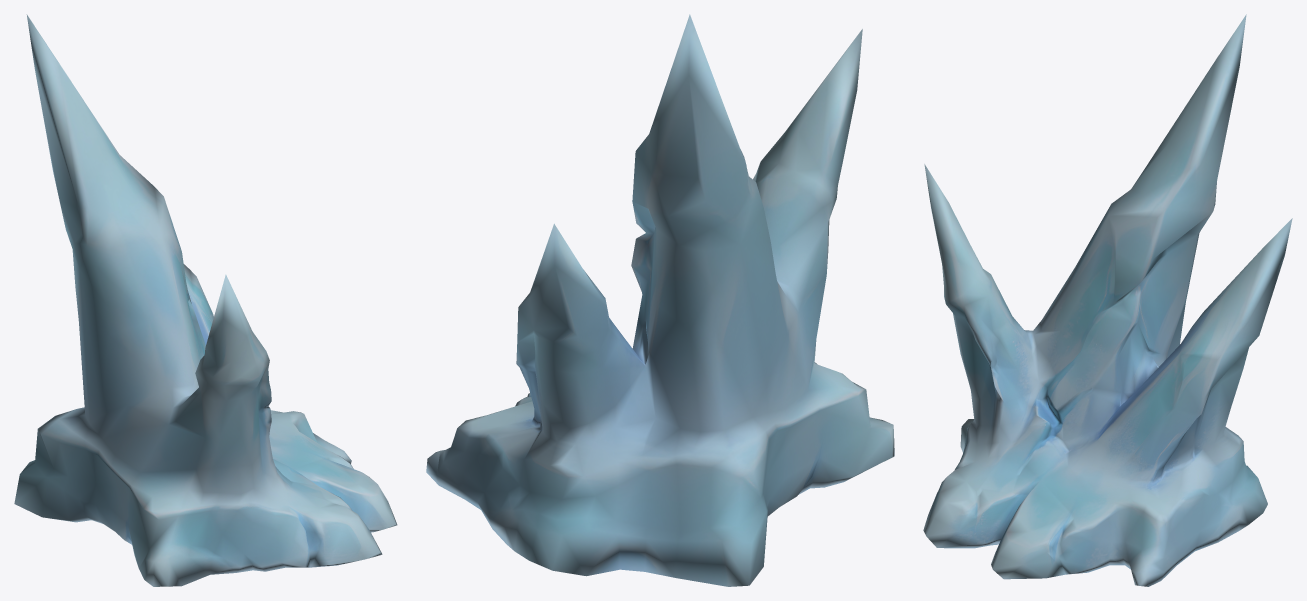
The model's file is iceshard_tripo.glb.
3 renders of one model, left to right at view 1: azimuth 30°, elevation 25°; view 2: azimuth 150°, elevation 25°; view 3: azimuth 270°, elevation 25°, orthographic. The views are drawn at different scales.
Parts seen in each view (by area): view 1: tripo_node_0e22da9c-423a-4976-9c15-579723904d05; view 2: tripo_node_0e22da9c-423a-4976-9c15-579723904d05; view 3: tripo_node_0e22da9c-423a-4976-9c15-579723904d05.
Part boxes in pixels (box(x1,y1,x2,y2)): tripo_node_0e22da9c-423a-4976-9c15-579723904d05: box(14, 14, 397, 586); tripo_node_0e22da9c-423a-4976-9c15-579723904d05: box(426, 14, 894, 586); tripo_node_0e22da9c-423a-4976-9c15-579723904d05: box(923, 14, 1292, 586).
Bounding box in the file's own units: 0.6543 × 0.998 × 0.7363.
Materials: 1 (1 with a texture image).
